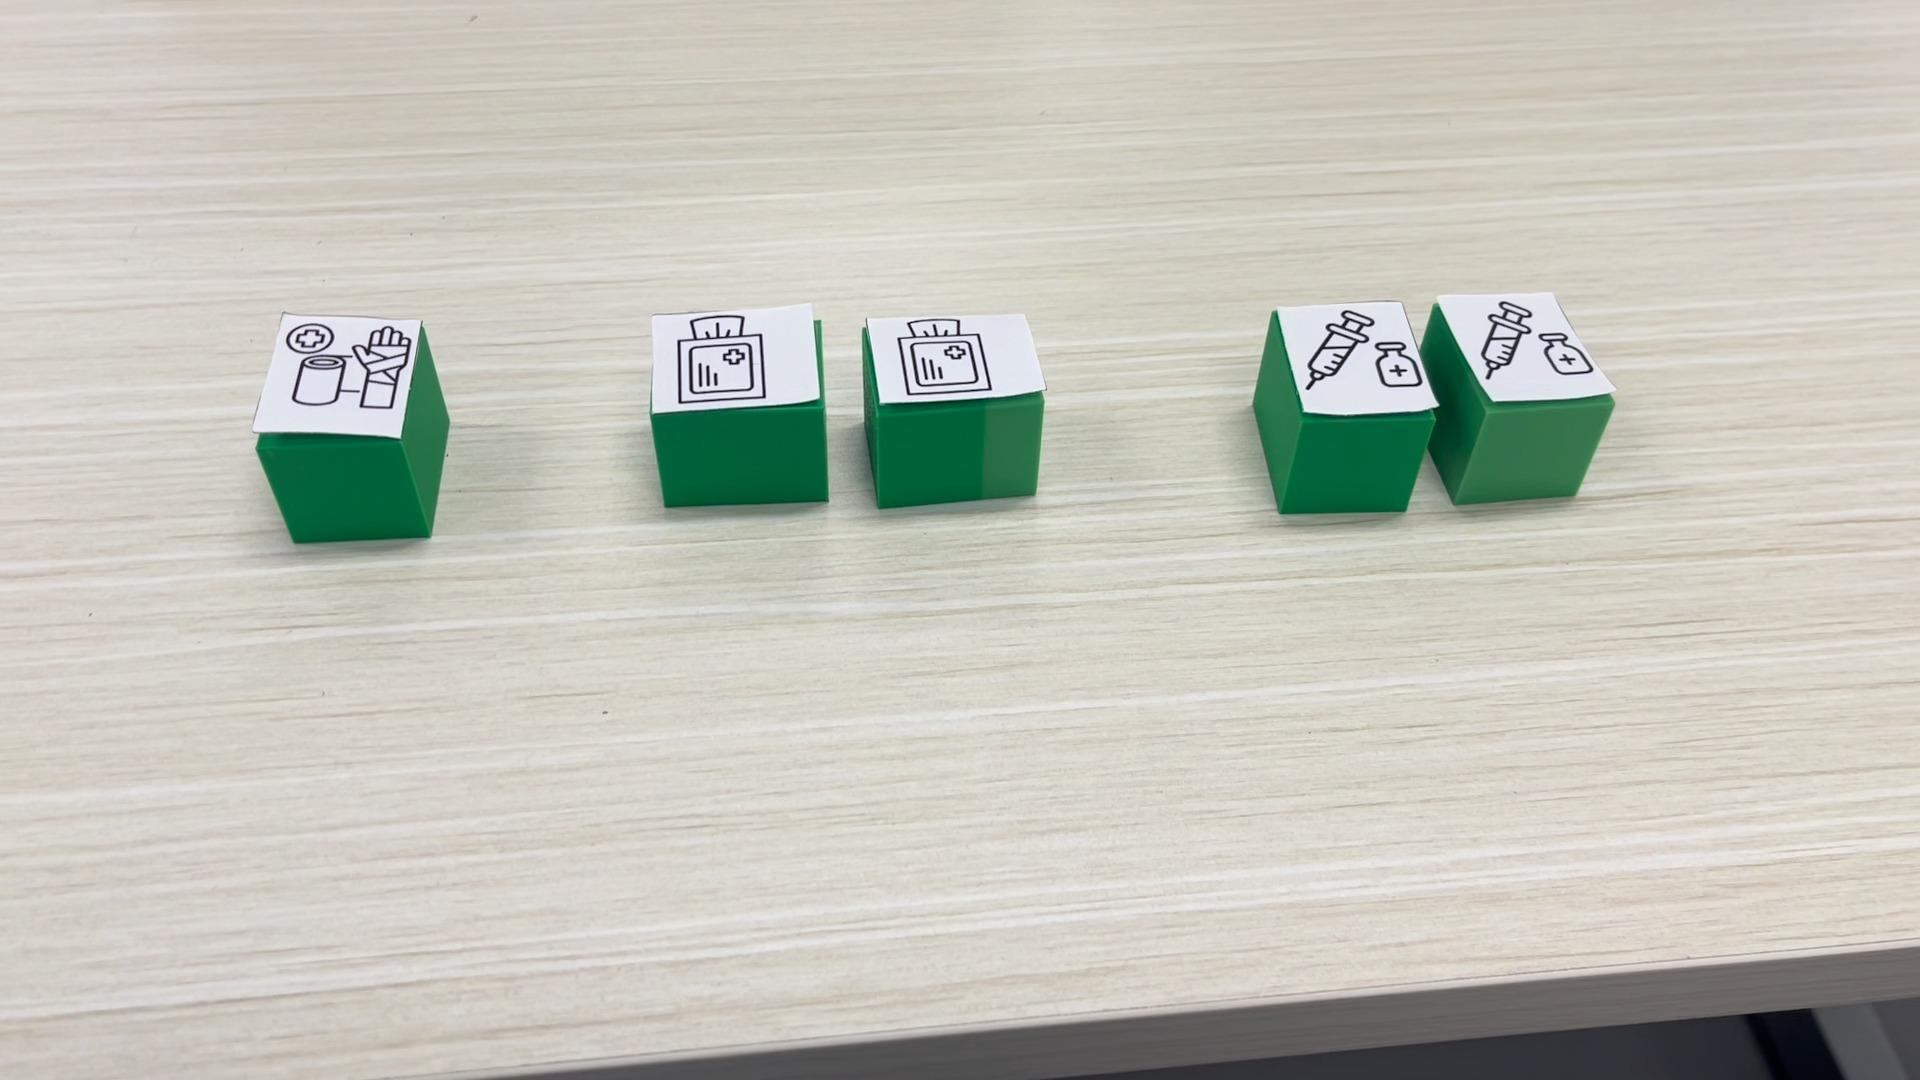Bandages: (251, 313, 448, 545)
Gauze: (858, 307, 1046, 508), (647, 302, 824, 506)
antiseptic cream: (1418, 287, 1617, 504), (1251, 298, 1443, 514)
